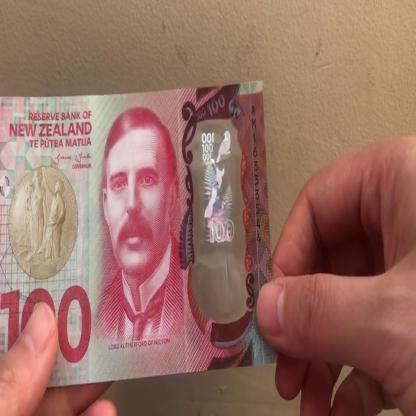100F: (199, 119, 240, 292)
